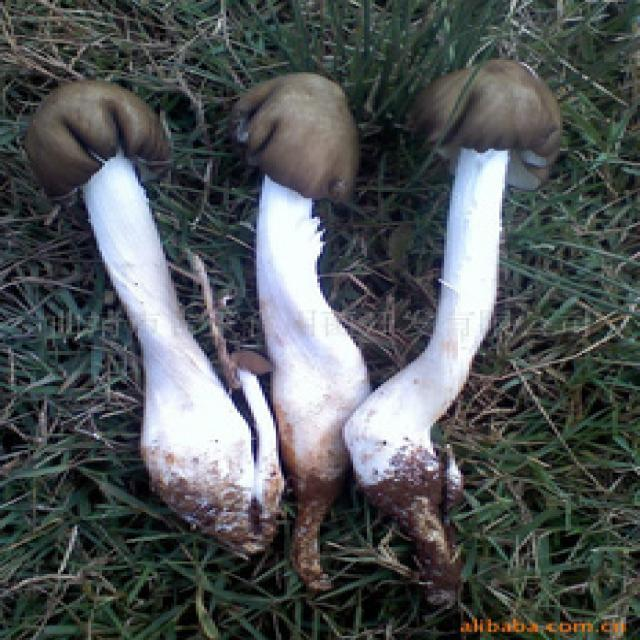Collybia albuminosa: (346, 55, 564, 572), (30, 79, 268, 551), (240, 69, 383, 589)
